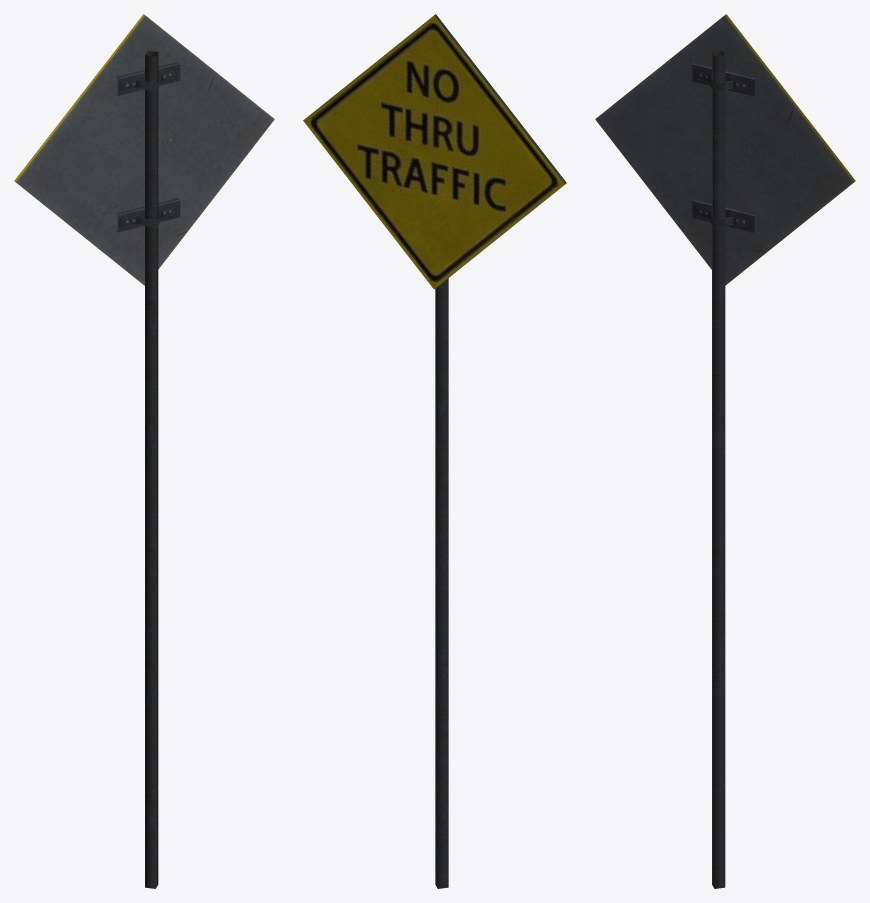
File: No_Thru_Traffic.glb
The picture shows the model from 3 angles, left to right: view 1: azimuth 30°, elevation 25°; view 2: azimuth 150°, elevation 25°; view 3: azimuth 330°, elevation 25°; orthographic projection.
Visible parts, largest first — view 1: No_Thru_Traffic__LOD1; view 2: No_Thru_Traffic__LOD1; view 3: No_Thru_Traffic__LOD1.
Boxes of the visible parts, <box> form: No_Thru_Traffic__LOD1: <box>14,14,274,888</box>; No_Thru_Traffic__LOD1: <box>303,14,566,888</box>; No_Thru_Traffic__LOD1: <box>595,14,855,888</box>.
Size of the model in its own units: 0.9743 by 3.11 by 0.0893.
1 material, 1 textured.
